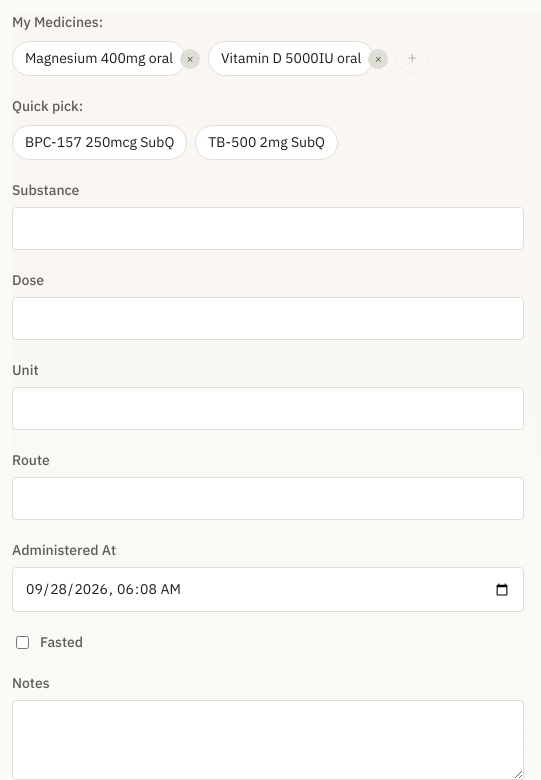
Test case: InterventionForm › clicking a chip auto-fills form fields
Click the button "BPC-157 250mcg SubQ": (100, 142) [12,125,187,160]
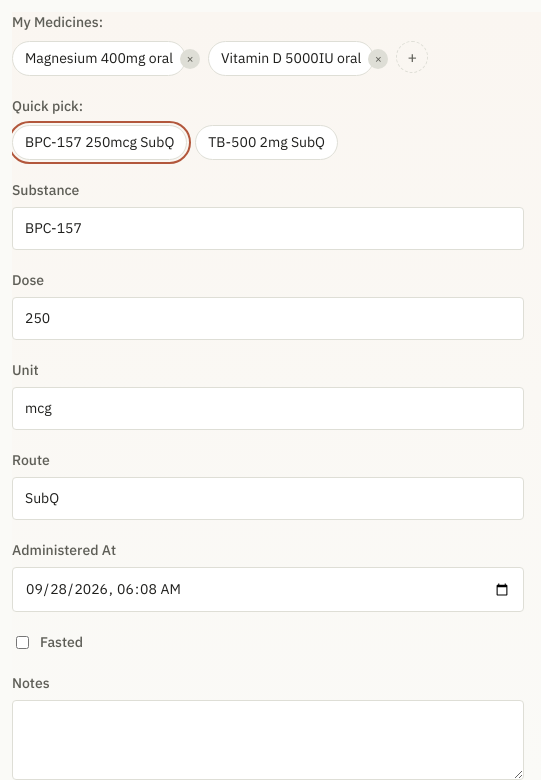
Check: the field labelled "Substance" holds "BPC-157", box [12,207,524,250]
Check: the number field labelled "Dose" holds "250", box [12,297,524,340]
Check: the field labelled "Unit" holds "mcg", box [12,387,524,430]
